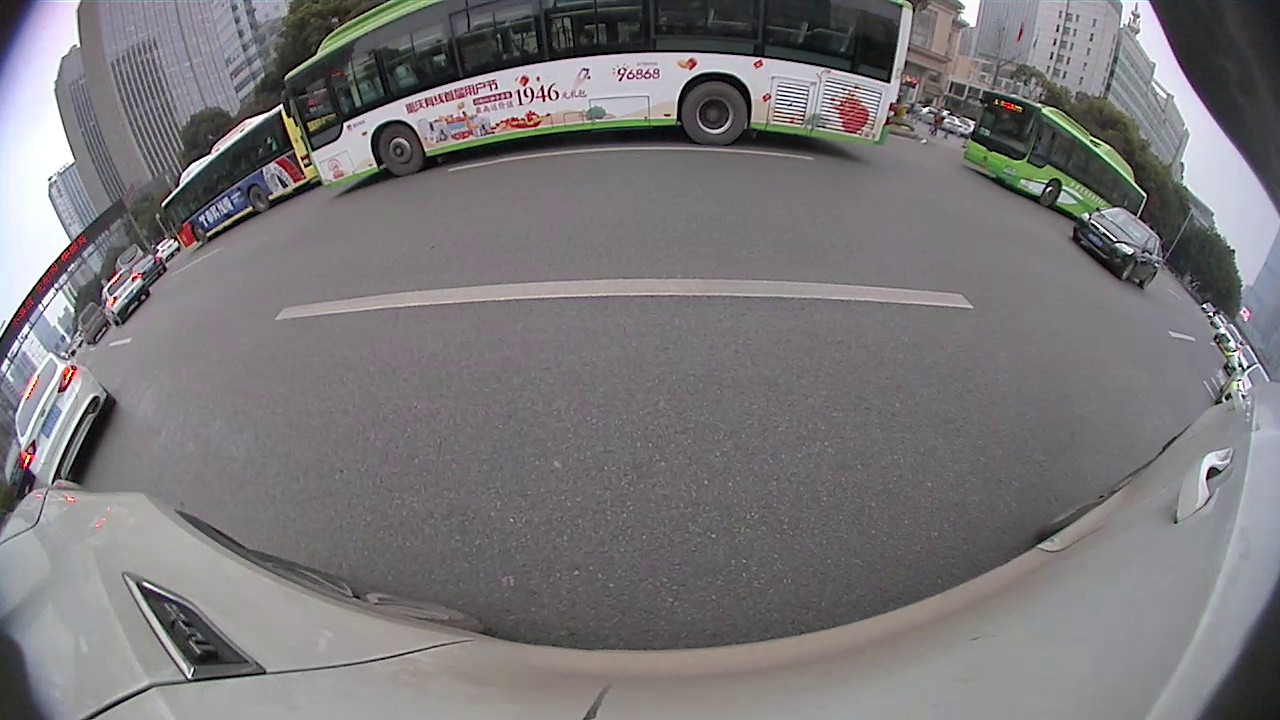bus: (272, 1, 915, 208), (958, 82, 1150, 242), (154, 100, 317, 253)
car: (11, 349, 120, 489), (1071, 201, 1164, 292)
front: (374, 123, 425, 177), (1038, 179, 1060, 208), (191, 222, 208, 246), (1120, 262, 1136, 283)
rear: (679, 81, 749, 148), (247, 183, 268, 214), (1142, 270, 1153, 289)
